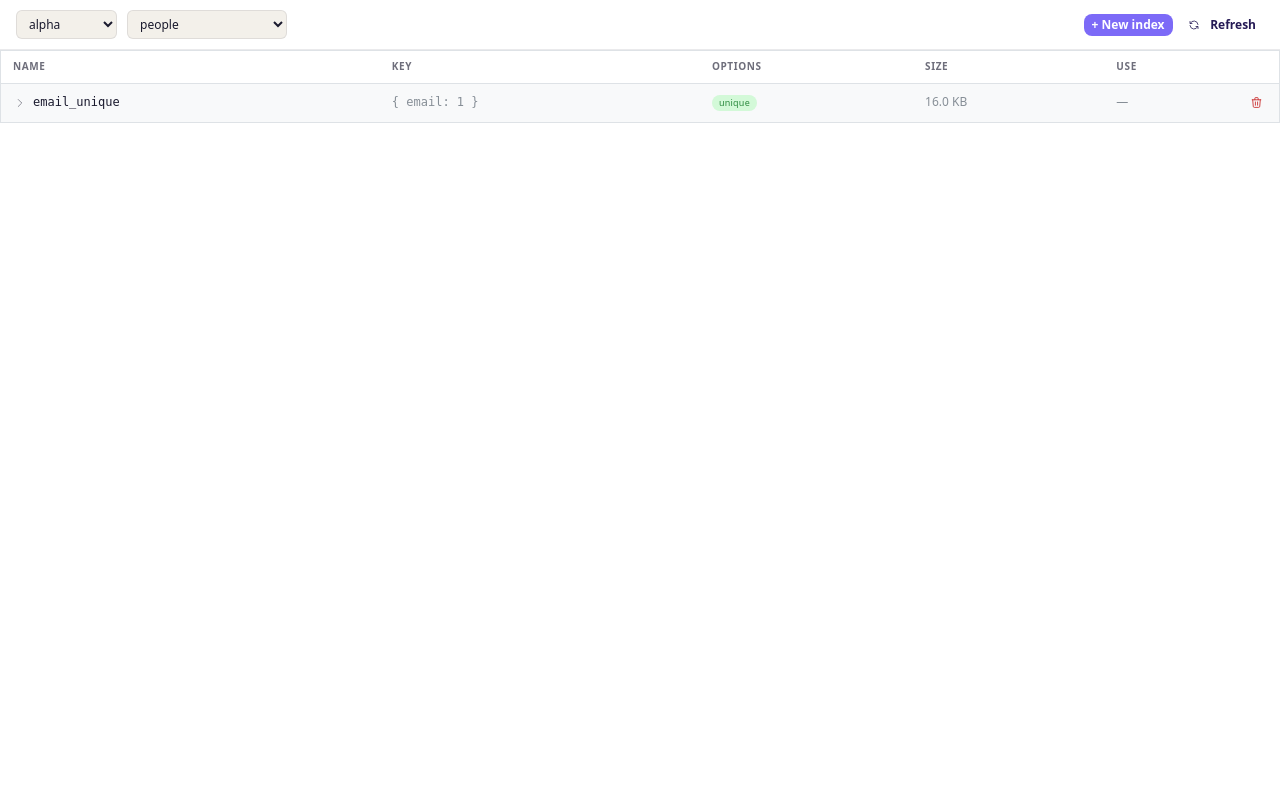
Test: IndexesTab — render › does not strand focus on <body> when the expanded index is dropped
Click the button "email_unique" at (66, 102), box [13,93,120,112]
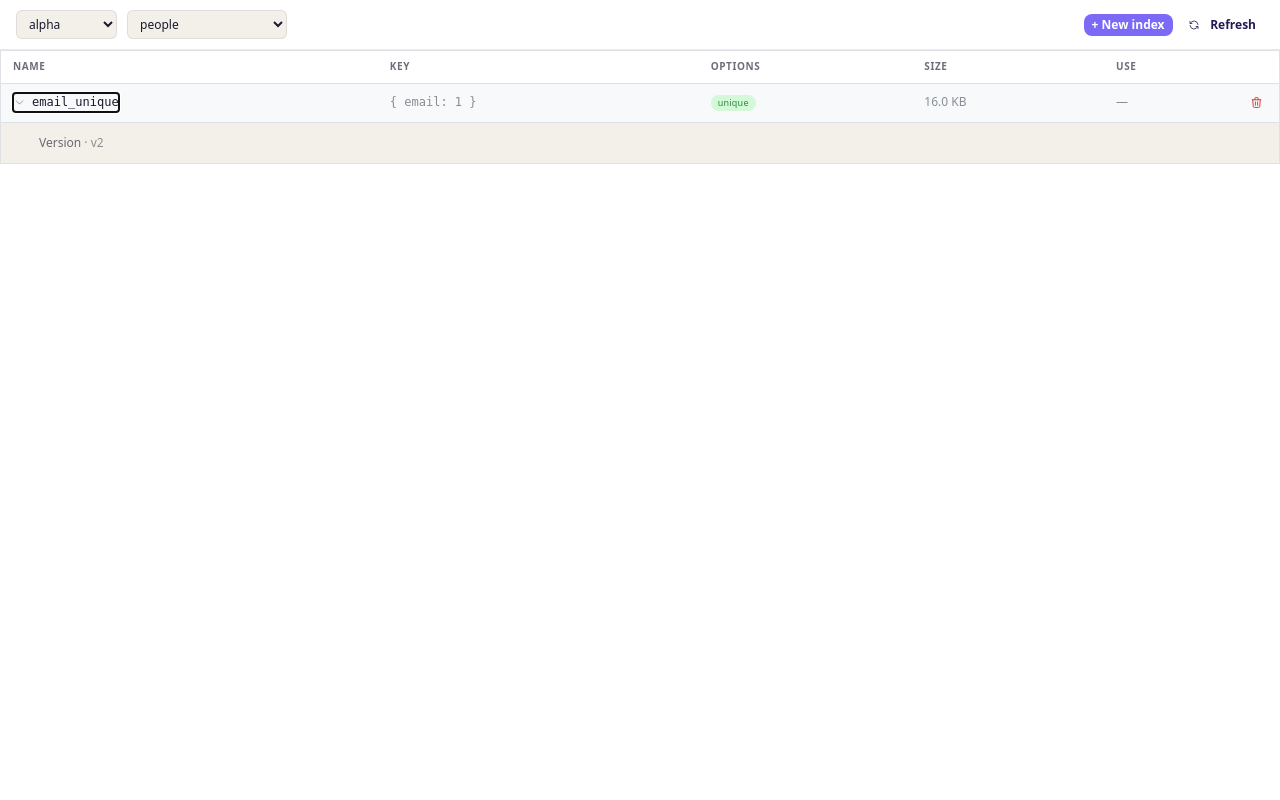
expect the text "Version · v2" is shown: met, box [39,134,104,150]
Click the button named "Drop index email_unique" at (1256, 102), box [1245,92,1267,114]
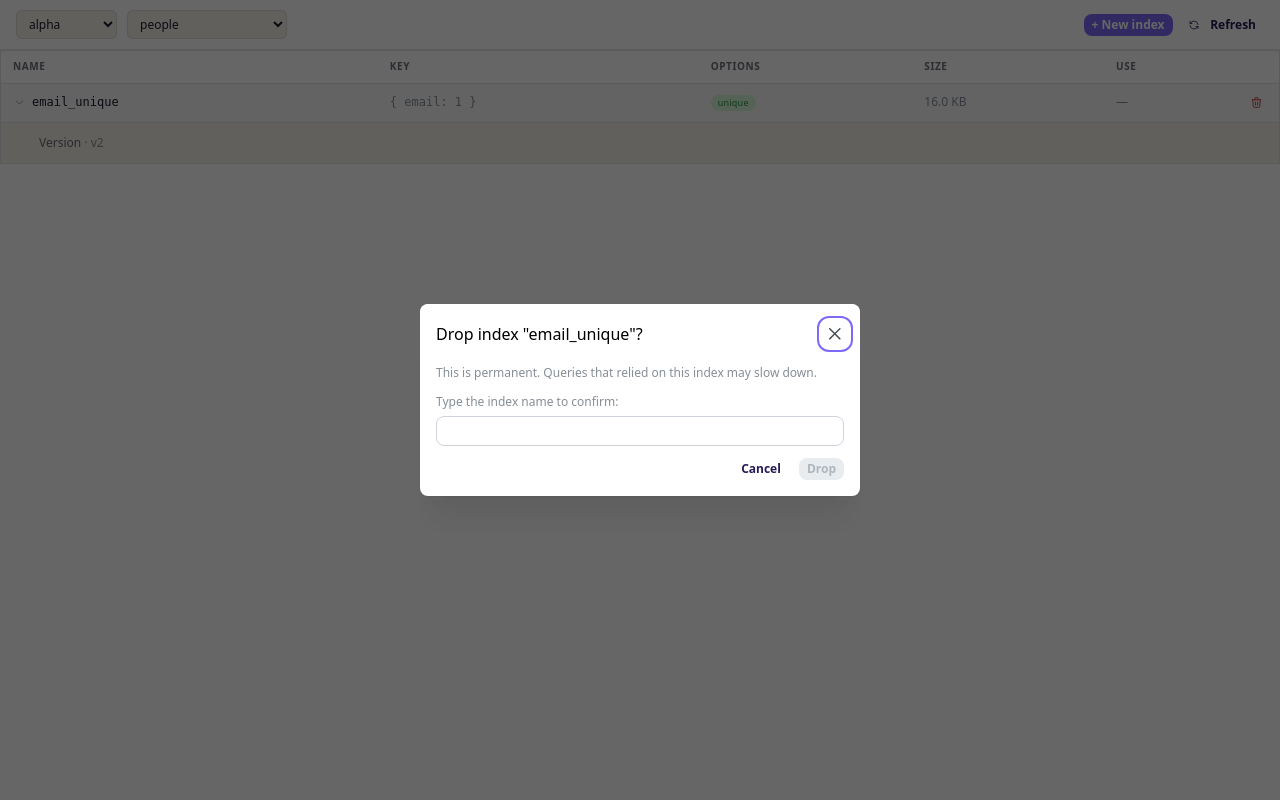
Type "email_unique" into the field named "Confirm index name" at (640, 431), box [436,416,844,446]
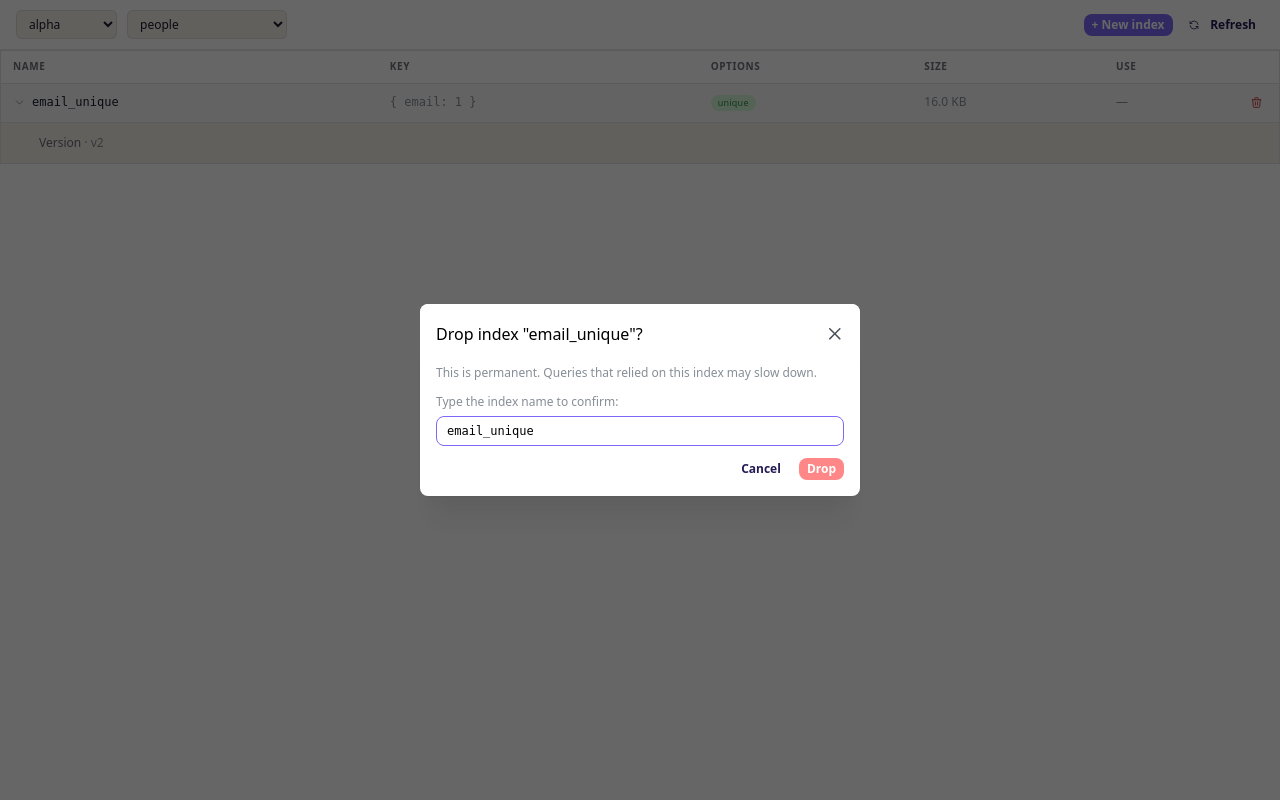
Click the button "Drop" at (821, 469), box [799,458,844,480]
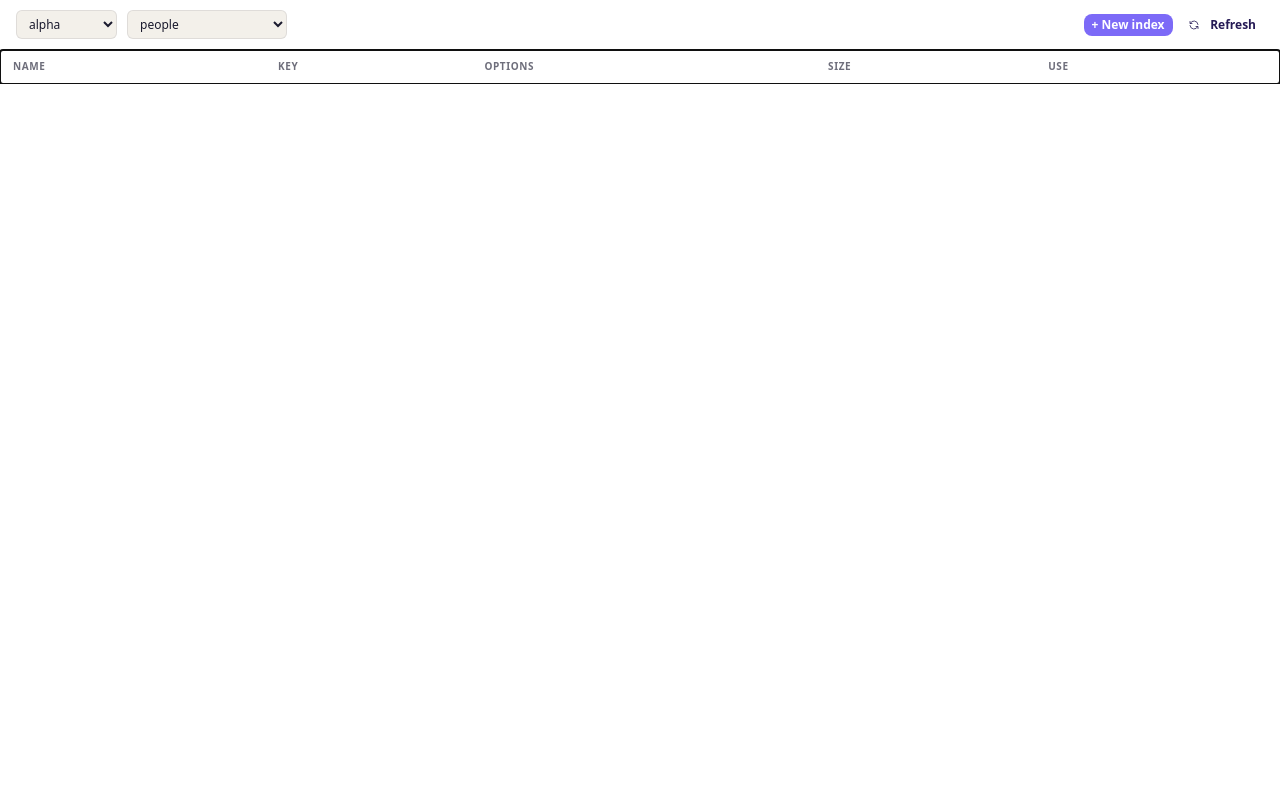
expect the heading "email_unique" is gone: met
